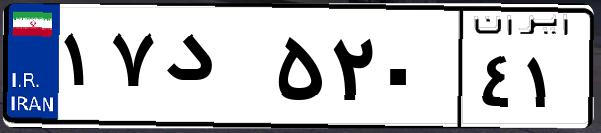0: (385, 28, 445, 110)
1: (57, 26, 110, 100), (525, 38, 570, 115)
2: (330, 28, 385, 110)
4: (475, 38, 525, 113)
5: (270, 28, 330, 110)
7: (110, 28, 158, 98)
د: (158, 20, 270, 120)
